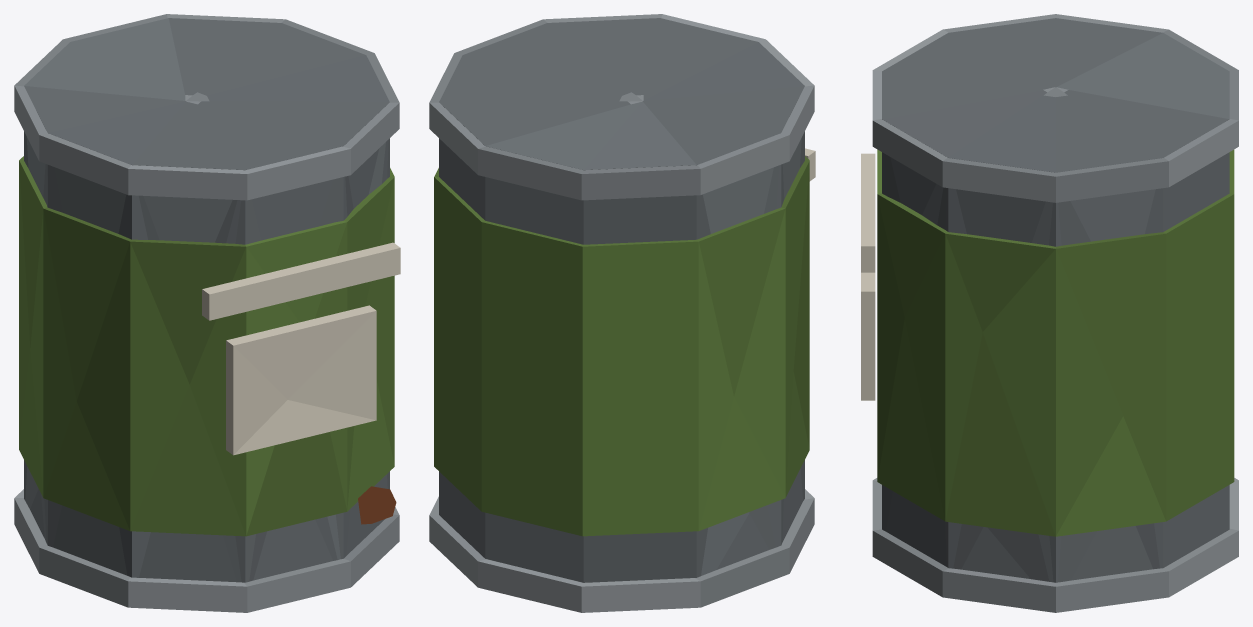
The model's file is food_canned_fasol_idle.glb.
3 views of the same model, side by side, from view 1: azimuth 30°, elevation 25°; view 2: azimuth 150°, elevation 25°; view 3: azimuth 270°, elevation 25° (orthographic).
Visible parts, largest first — view 1: food_canned_fasol_idle; view 2: food_canned_fasol_idle; view 3: food_canned_fasol_idle.
Part boxes in pixels (x1,y1,x2,y2): food_canned_fasol_idle: (14,14,400,612); food_canned_fasol_idle: (429,14,815,612); food_canned_fasol_idle: (861,14,1238,612).
Size of the model in its own units: 0.08 by 0.1 by 0.082.
1 material, 1 textured.
